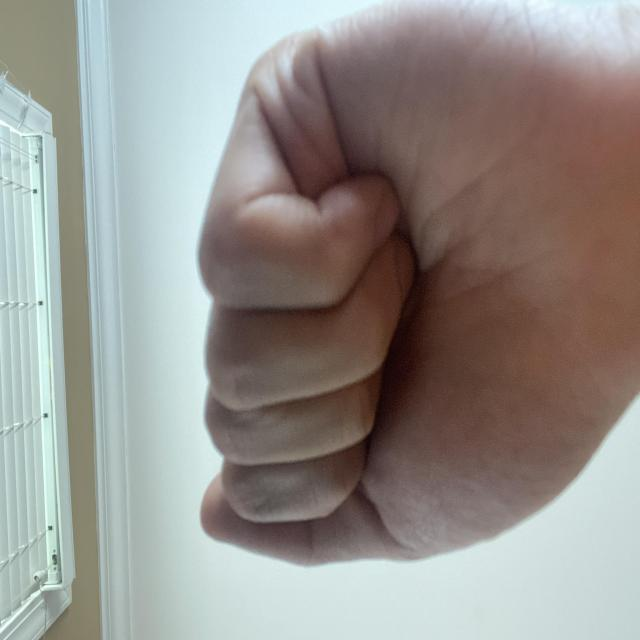A: (45, 253, 480, 640)
